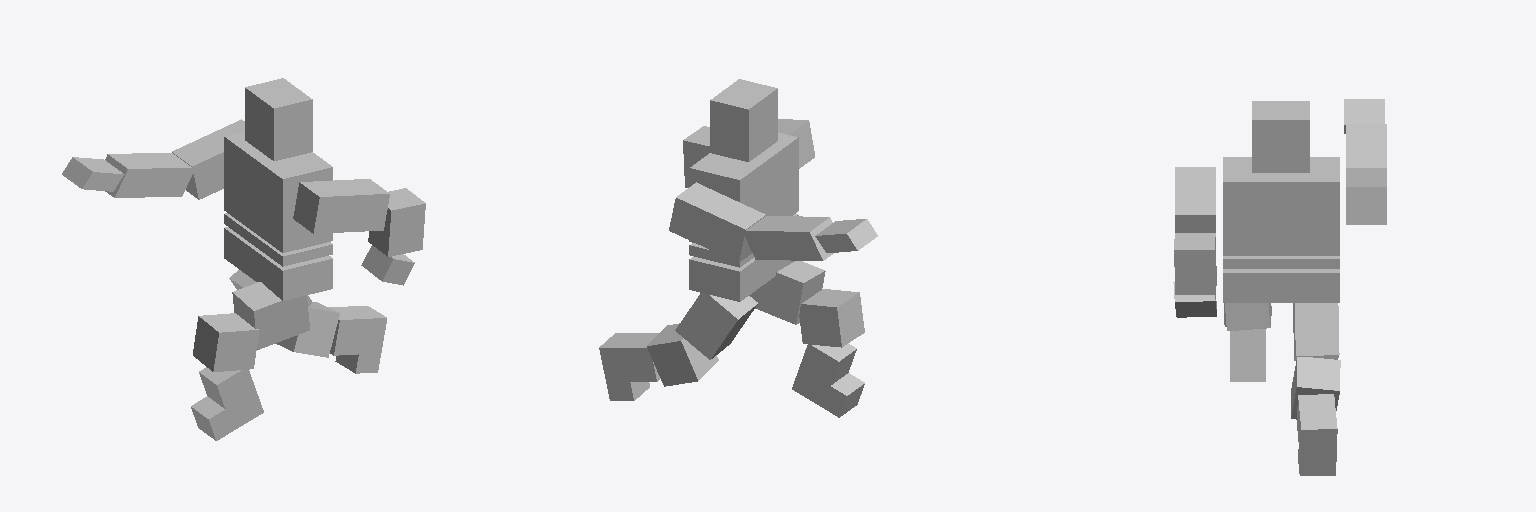
Rendered from POne3.obj.
3 views of the same model, side by side, from view 1: azimuth 30°, elevation 25°; view 2: azimuth 150°, elevation 25°; view 3: azimuth 270°, elevation 25° (orthographic).
Parts seen in each view (by area): view 1: pasted__pasted__pCube3 pasted__group3 group4, pCube4, pasted__pCube4 group6, pCube3, pasted__pCube1 group5, pasted__pCube2 group1, pasted__pCube4 group8, group2 pasted__pasted__pCube2 pasted__group1, pCube1, group8 pasted__pasted__pCube4 pasted__group6, pasted__pCube4 group7, pCube2 (+3 smaller); view 2: pasted__pasted__pCube3 pasted__group3 group4, pCube4, pasted__pCube4 group7, pasted__pCube1 group5, pasted__pCube4 group8, pasted__pCube2 group1, pasted__pCube2 group2, pCube1, pCube3, group2 pasted__pasted__pCube2 pasted__group1, pCube2, pasted__pasted__pCube4 pasted__group8 group9 (+3 smaller); view 3: pasted__pasted__pCube3 pasted__group3 group4, pCube4, pCube3, pCube1, pasted__pCube4 group6, group8 pasted__pasted__pCube4 pasted__group6, pasted__pCube2 group2, pasted__pCube4 group7, pCube2, pasted__pCube1 group5, pasted__pCube4 group8, pasted__pCube3 group3 (+3 smaller).
Part boxes in pixels (bbox=[...]): pasted__pasted__pCube3 pasted__group3 group4: bbox=[224, 131, 332, 252]; pCube4: bbox=[245, 78, 312, 160]; pasted__pCube4 group6: bbox=[293, 179, 389, 233]; pCube3: bbox=[224, 227, 332, 300]; pasted__pCube1 group5: bbox=[191, 367, 263, 440]; pasted__pCube2 group1: bbox=[193, 313, 259, 371]; pasted__pCube4 group8: bbox=[105, 153, 194, 197]; group2 pasted__pasted__pCube2 pasted__group1: bbox=[232, 282, 309, 349]; pCube1: bbox=[328, 306, 386, 373]; group8 pasted__pasted__pCube4 pasted__group6: bbox=[368, 188, 425, 256]; pasted__pCube4 group7: bbox=[172, 119, 244, 199]; pCube2: bbox=[276, 302, 339, 357]; pasted__pasted__pCube3 pasted__group3 group4: bbox=[689, 132, 798, 242]; pCube4: bbox=[710, 79, 777, 161]; pasted__pCube4 group7: bbox=[669, 182, 765, 262]; pasted__pCube1 group5: bbox=[792, 343, 864, 417]; pasted__pCube4 group8: bbox=[743, 216, 833, 260]; pasted__pCube2 group1: bbox=[799, 289, 864, 347]; pasted__pCube2 group2: bbox=[675, 293, 757, 359]; pCube1: bbox=[599, 333, 660, 400]; pCube3: bbox=[689, 256, 794, 301]; group2 pasted__pasted__pCube2 pasted__group1: bbox=[749, 261, 825, 324]; pCube2: bbox=[647, 323, 718, 386]; pasted__pasted__pCube4 pasted__group8 group9: bbox=[815, 219, 877, 252]; pasted__pasted__pCube3 pasted__group3 group4: bbox=[1223, 157, 1339, 255]; pCube4: bbox=[1252, 101, 1309, 172]; pCube3: bbox=[1223, 269, 1339, 302]; pCube1: bbox=[1297, 394, 1337, 475]; pasted__pCube4 group6: bbox=[1175, 167, 1215, 232]; group8 pasted__pasted__pCube4 pasted__group6: bbox=[1174, 233, 1216, 294]; pasted__pCube2 group2: bbox=[1293, 303, 1339, 360]; pasted__pCube4 group7: bbox=[1346, 168, 1386, 224]; pCube2: bbox=[1291, 357, 1340, 419]; pasted__pCube1 group5: bbox=[1230, 329, 1265, 381]; pasted__pCube4 group8: bbox=[1346, 124, 1386, 167]; pasted__pCube3 group3: bbox=[1223, 256, 1339, 268].
Bounding box in the file's own units: 5.63 × 5.92 × 3.66.